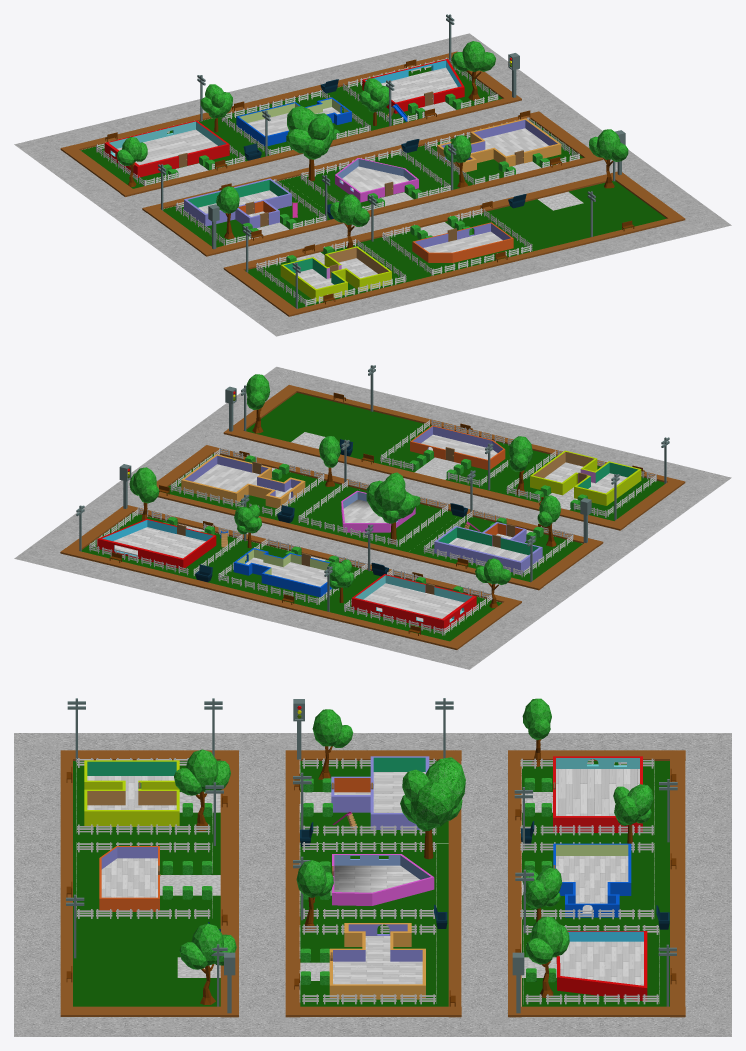
The model's file is HOUSE_ORGINIZER.fbx.
The picture shows the model from 3 angles, top to bottom: view 1: azimuth 30°, elevation 25°; view 2: azimuth 150°, elevation 25°; view 3: azimuth 270°, elevation 25°; orthographic projection. The views are drawn at different scales.
Parts seen in each view (by area): view 1: driveway, bow_way, tree, garden9, garden_1, home_2, trafficlight_electricpole, garden_4, home_3, garden_3, home_5, home_6 (+25 smaller); view 2: driveway, bow_way, tree, garden9, garden_4, trafficlight_electricpole, home_2, garden_1, home_5, home_3, home_6, garden_7 (+27 smaller); view 3: driveway, bow_way, tree, garden9, garden_1, home_2, garden_4, trafficlight_electricpole, garden_5, garden_7, garden6, garden_3 (+30 smaller).
Boxes of the visible parts, x1=… form: driveway: x1=14, y1=33, x2=731, y2=336; bow_way: x1=60, y1=51, x2=685, y2=316; tree: x1=116, y1=41, x2=628, y2=248; garden9: x1=491, y1=181, x2=666, y2=248; garden_1: x1=367, y1=210, x2=542, y2=278; home_2: x1=280, y1=246, x2=391, y2=301; trafficlight_electricpole: x1=158, y1=14, x2=625, y2=308; garden_4: x1=284, y1=151, x2=459, y2=209; home_3: x1=184, y1=178, x2=291, y2=228; garden_3: x1=163, y1=180, x2=330, y2=247; home_5: x1=437, y1=118, x2=561, y2=172; home_6: x1=104, y1=120, x2=229, y2=177; driveway: x1=14, y1=366, x2=731, y2=669; bow_way: x1=60, y1=385, x2=685, y2=649; tree: x1=129, y1=374, x2=560, y2=608; garden9: x1=246, y1=393, x2=419, y2=460; garden_4: x1=290, y1=483, x2=457, y2=552; trafficlight_electricpole: x1=76, y1=365, x2=669, y2=611; home_2: x1=530, y1=450, x2=641, y2=505; garden_1: x1=369, y1=423, x2=543, y2=491; home_5: x1=181, y1=454, x2=305, y2=508; home_3: x1=434, y1=522, x2=542, y2=573; home_6: x1=351, y1=574, x2=476, y2=631; garden_7: x1=208, y1=543, x2=376, y2=611; driveway: x1=14, y1=733, x2=731, y2=1036; bow_way: x1=60, y1=750, x2=685, y2=1017; tree: x1=174, y1=698, x2=653, y2=1004; garden9: x1=73, y1=926, x2=220, y2=1006; garden_1: x1=73, y1=843, x2=220, y2=926; home_2: x1=84, y1=760, x2=179, y2=826; garden_4: x1=300, y1=844, x2=448, y2=926; trafficlight_electricpole: x1=66, y1=698, x2=677, y2=1013; garden_5: x1=300, y1=926, x2=448, y2=1006; garden_7: x1=522, y1=843, x2=669, y2=926; garden6: x1=522, y1=761, x2=669, y2=843; garden_3: x1=300, y1=761, x2=448, y2=843.
Size of the model in its own units: 33457 by 4864 by 33393.
